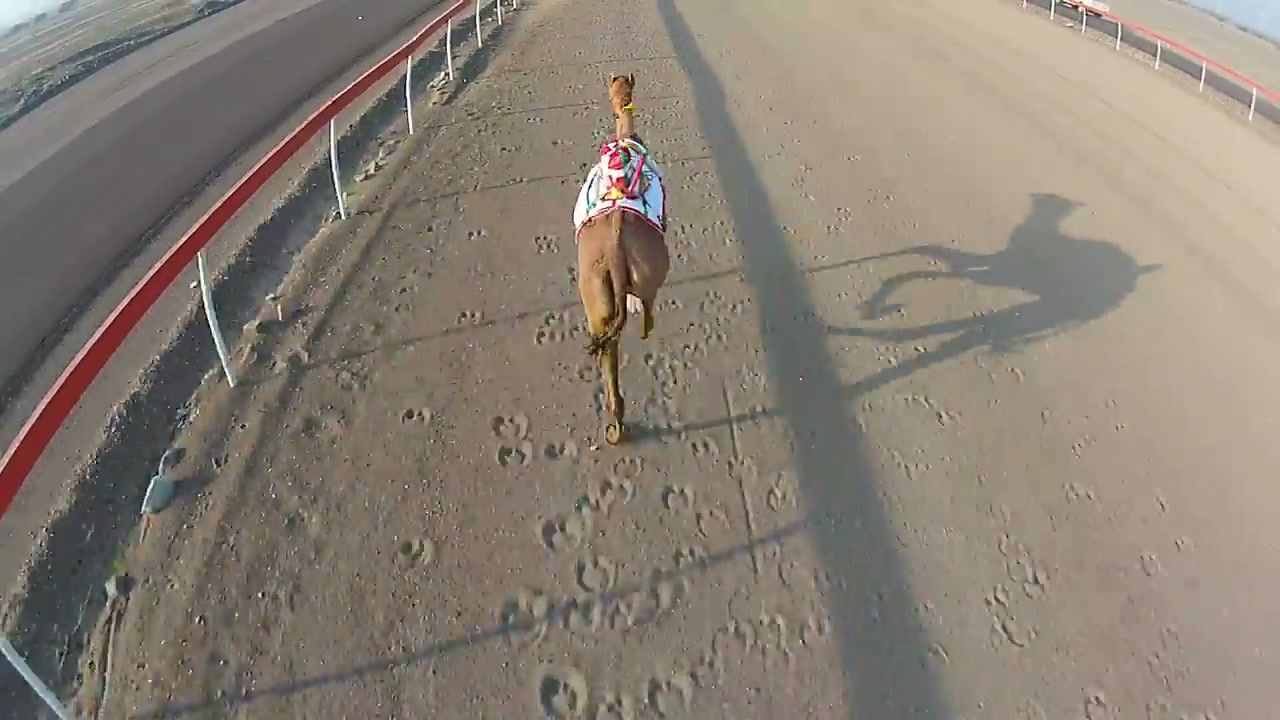animal_footprint: (556, 563, 686, 631), (709, 609, 830, 662), (713, 610, 793, 662), (606, 579, 682, 630), (998, 533, 1048, 598), (499, 588, 553, 645), (536, 667, 588, 719), (642, 353, 700, 394), (490, 413, 533, 467), (645, 670, 693, 718), (540, 511, 589, 551), (647, 569, 689, 615), (586, 477, 634, 516), (641, 392, 679, 441), (245, 345, 310, 372), (699, 290, 750, 323), (711, 620, 755, 658), (535, 310, 582, 344), (563, 594, 605, 632), (1146, 697, 1218, 719), (301, 407, 347, 441), (606, 592, 647, 630), (575, 556, 617, 592), (756, 613, 789, 657), (992, 614, 1035, 647), (589, 691, 635, 719), (650, 578, 685, 613), (766, 471, 796, 511), (692, 649, 724, 686), (490, 414, 530, 443), (695, 507, 731, 538), (1020, 561, 1048, 598), (495, 440, 533, 467), (727, 620, 758, 653), (1084, 688, 1116, 719), (799, 614, 829, 646), (335, 364, 369, 392), (398, 538, 436, 563), (778, 559, 808, 589), (673, 544, 708, 569), (662, 485, 694, 511), (739, 363, 767, 392), (612, 456, 642, 482), (699, 322, 727, 348), (543, 440, 579, 460), (984, 583, 1010, 610), (1063, 482, 1096, 503), (689, 436, 719, 459), (1015, 698, 1047, 719), (741, 402, 769, 423), (1139, 552, 1163, 576), (535, 327, 568, 344), (400, 408, 433, 425), (590, 388, 607, 418), (926, 642, 949, 664), (574, 362, 598, 382), (428, 84, 450, 105), (534, 234, 558, 253), (655, 297, 683, 311), (456, 310, 482, 325), (834, 206, 853, 223), (466, 228, 487, 240), (565, 265, 577, 286)
